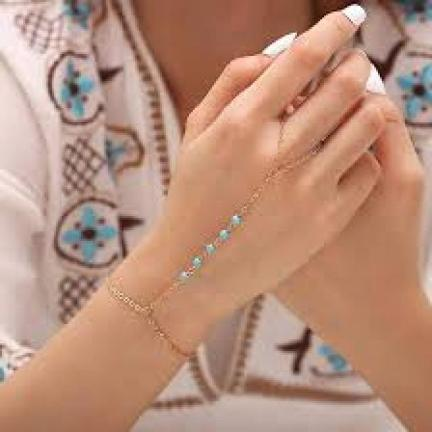Nail: (261, 33, 295, 54), (366, 66, 385, 93), (343, 5, 366, 24)
